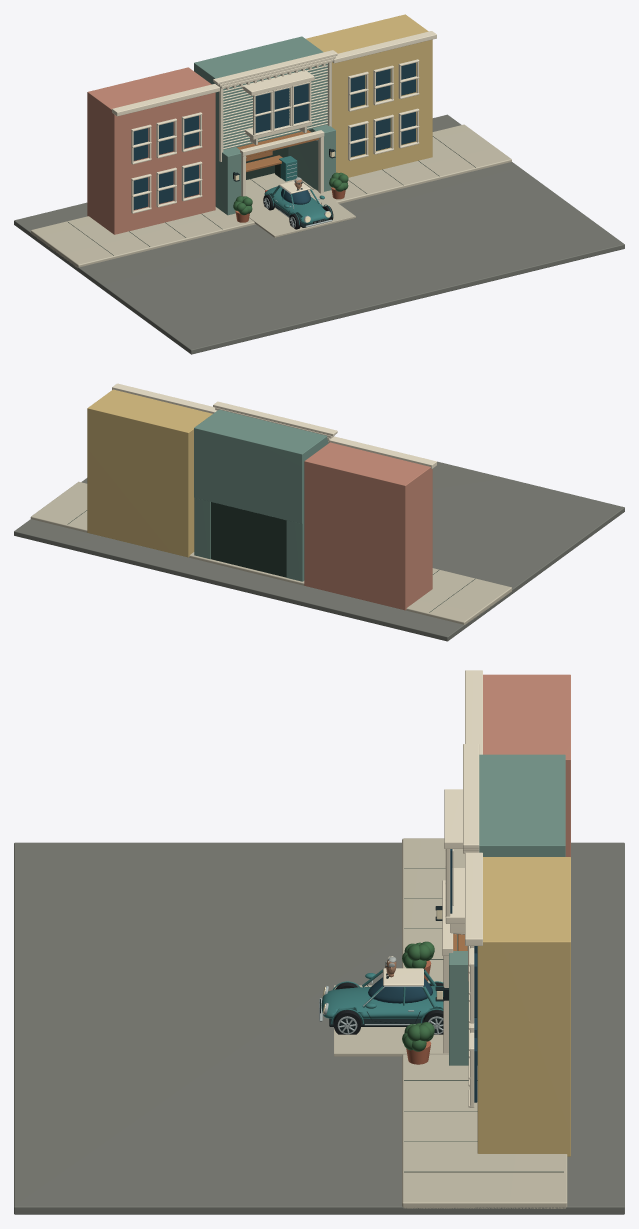
Rendered from victorian-garage.glb.
3 renders of one model, top to bottom at view 1: azimuth 30°, elevation 25°; view 2: azimuth 150°, elevation 25°; view 3: azimuth 270°, elevation 25°, orthographic. The views are drawn at different scales.
Parts seen in each view (by area): view 1: Street, Neighbor, Sidewalk, Neighbor.001, Upper floor, Garage right wall, Driveway, Garage left wall, Neighbor cornice, Neighbor cornice.001, Cornice.002, Bay roof (+5 smaller); view 2: Street, Neighbor, Neighbor.001, Upper floor, Sidewalk, Garage shadow, Garage left wall, Garage right wall, Cornice.002, Neighbor cornice, Neighbor cornice.001; view 3: Street, Neighbor.001, Sidewalk, Upper floor, Neighbor, Garage right wall, Coachbuilt body, Driveway, Cornice.002, Neighbor cornice.001, Neighbor cornice, Bay roof (+2 smaller).
Part boxes in pixels (x1,y1,x2,y2): Street: (14, 114, 624, 354); Neighbor: (87, 67, 215, 234); Sidewalk: (30, 124, 511, 268); Neighbor.001: (306, 14, 432, 177); Upper floor: (194, 36, 327, 150); Garage right wall: (288, 124, 335, 191); Driveway: (249, 189, 355, 237); Garage left wall: (215, 147, 241, 215); Neighbor cornice: (112, 84, 219, 116); Neighbor cornice.001: (332, 31, 436, 63); Cornice.002: (213, 50, 337, 84); Bay roof: (242, 70, 314, 95); Street: (14, 461, 624, 641); Neighbor: (304, 442, 432, 610); Neighbor.001: (87, 389, 212, 557); Upper floor: (194, 409, 328, 523); Sidewalk: (30, 481, 511, 624); Garage shadow: (211, 502, 286, 577); Garage left wall: (286, 520, 304, 581); Garage right wall: (194, 498, 210, 559); Cornice.002: (213, 401, 337, 436); Neighbor cornice: (329, 436, 436, 468); Neighbor cornice.001: (112, 383, 216, 413); Street: (14, 842, 624, 1214); Neighbor.001: (477, 857, 570, 1156); Sidewalk: (402, 838, 567, 1208); Upper floor: (477, 754, 565, 964); Neighbor: (483, 674, 570, 856); Garage right wall: (449, 951, 477, 1065); Coachbuilt body: (321, 986, 443, 1018); Driveway: (334, 985, 448, 1056); Cornice.002: (463, 744, 479, 848); Neighbor cornice.001: (465, 852, 482, 945); Neighbor cornice: (465, 670, 482, 754); Bay roof: (444, 789, 462, 848).
Bounding box in the file's own units: 24 × 7.32 × 17.
